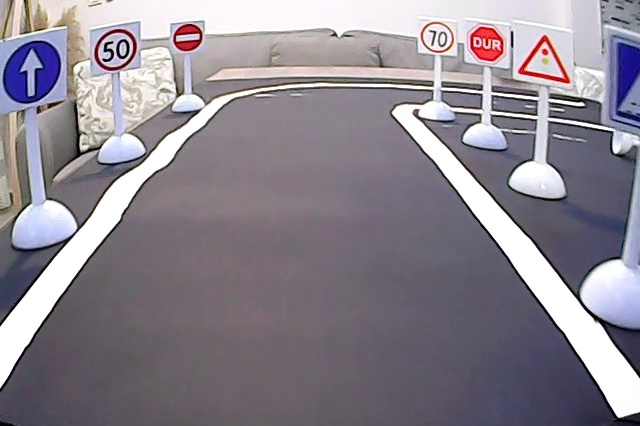do not enter: (169, 21, 206, 53)
red light: (514, 24, 575, 87)
speed limit 50: (89, 26, 141, 75)
speed limit 70: (417, 14, 456, 57)
stop sign: (465, 18, 510, 71)
